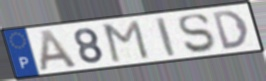8: (73, 27, 105, 64)
A: (38, 27, 80, 73)
D: (210, 8, 250, 51)
I: (153, 15, 178, 58)
M: (102, 18, 151, 64)
S: (177, 12, 217, 55)
